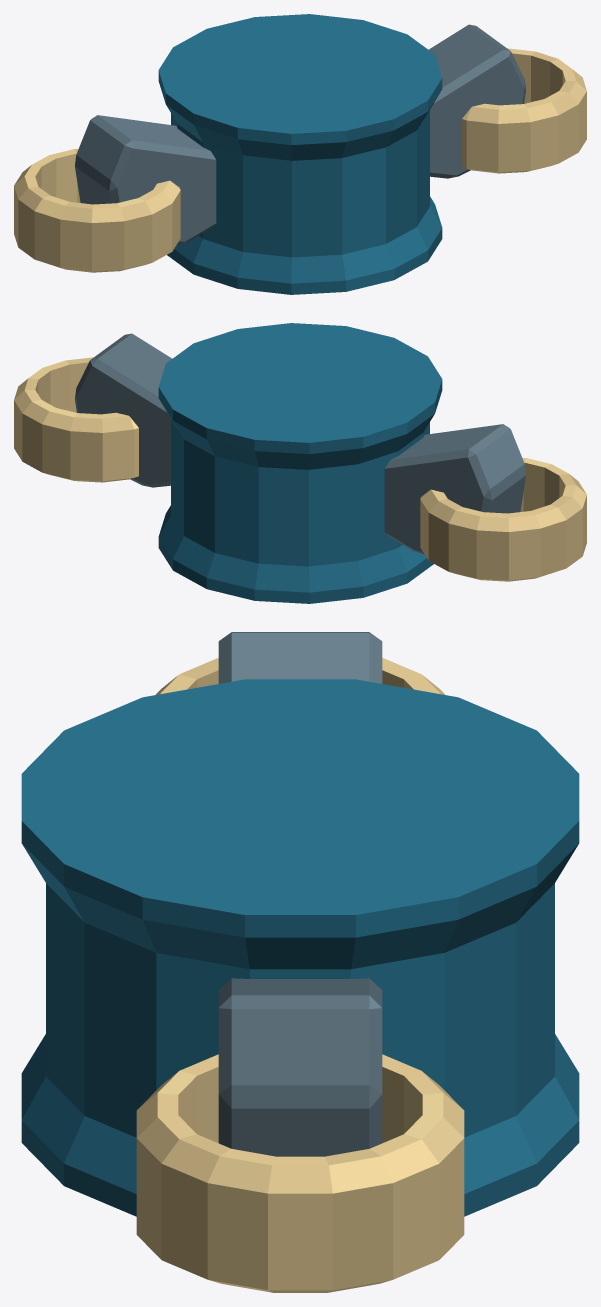
The model's file is ER_TwinPodYoke.fbx.
The picture shows the model from 3 angles, top to bottom: view 1: azimuth 30°, elevation 25°; view 2: azimuth 150°, elevation 25°; view 3: azimuth 270°, elevation 25°; orthographic projection. The views are drawn at different scales.
Parts seen in each view (by area): view 1: ER_TwinPodYoke; view 2: ER_TwinPodYoke; view 3: ER_TwinPodYoke.
Part boxes in pixels (bbox=[...]): ER_TwinPodYoke: bbox=[14, 14, 586, 294]; ER_TwinPodYoke: bbox=[14, 323, 586, 603]; ER_TwinPodYoke: bbox=[21, 632, 579, 1292].
Size of the model in its own units: 1.78 by 0.5 by 0.7846.
